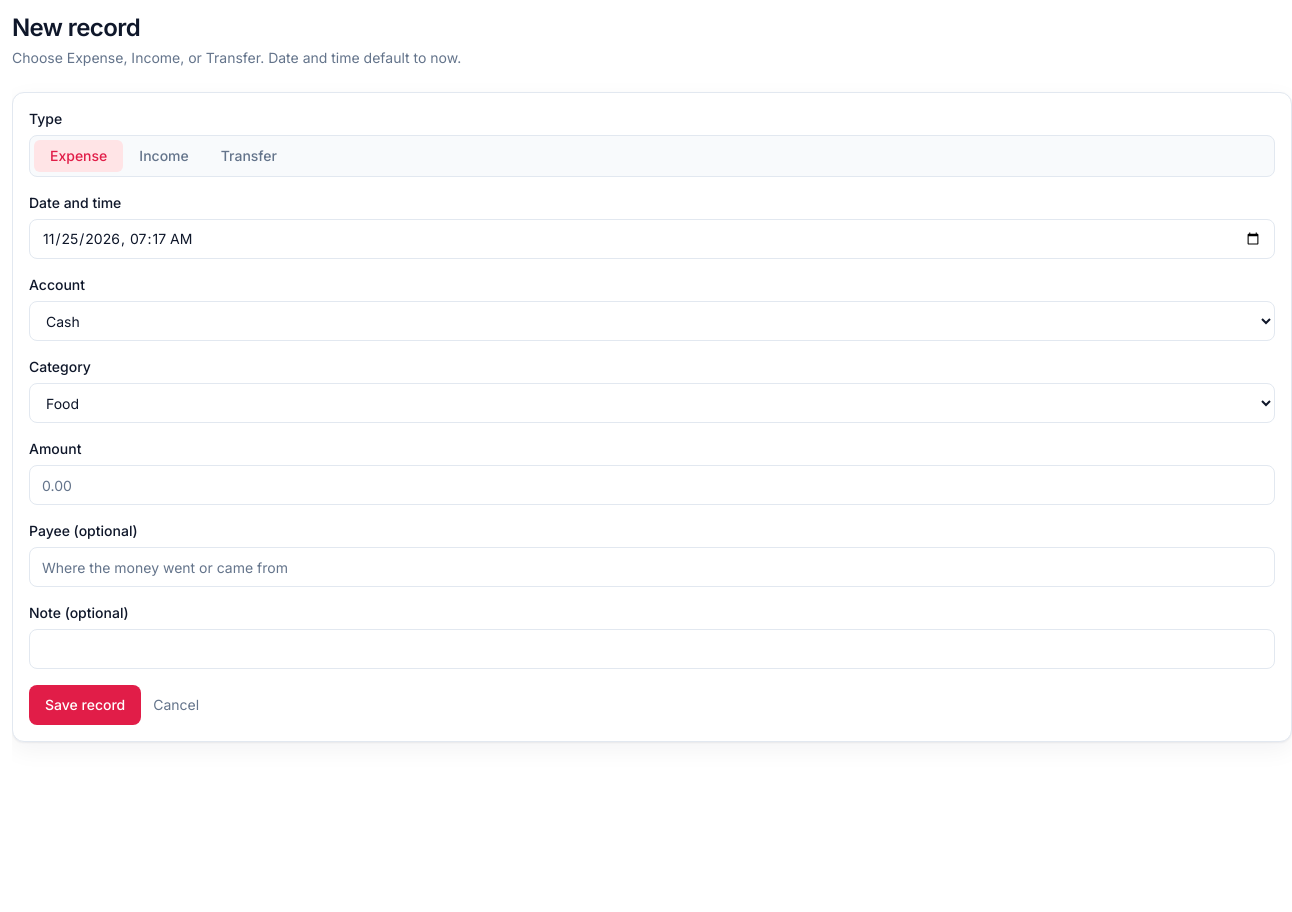
Test: TransactionFormPage with three types (D-019) › switches to transfer fields and defaults source/destination accounts
Click the button "Transfer": (249, 156) [205,140,293,172]
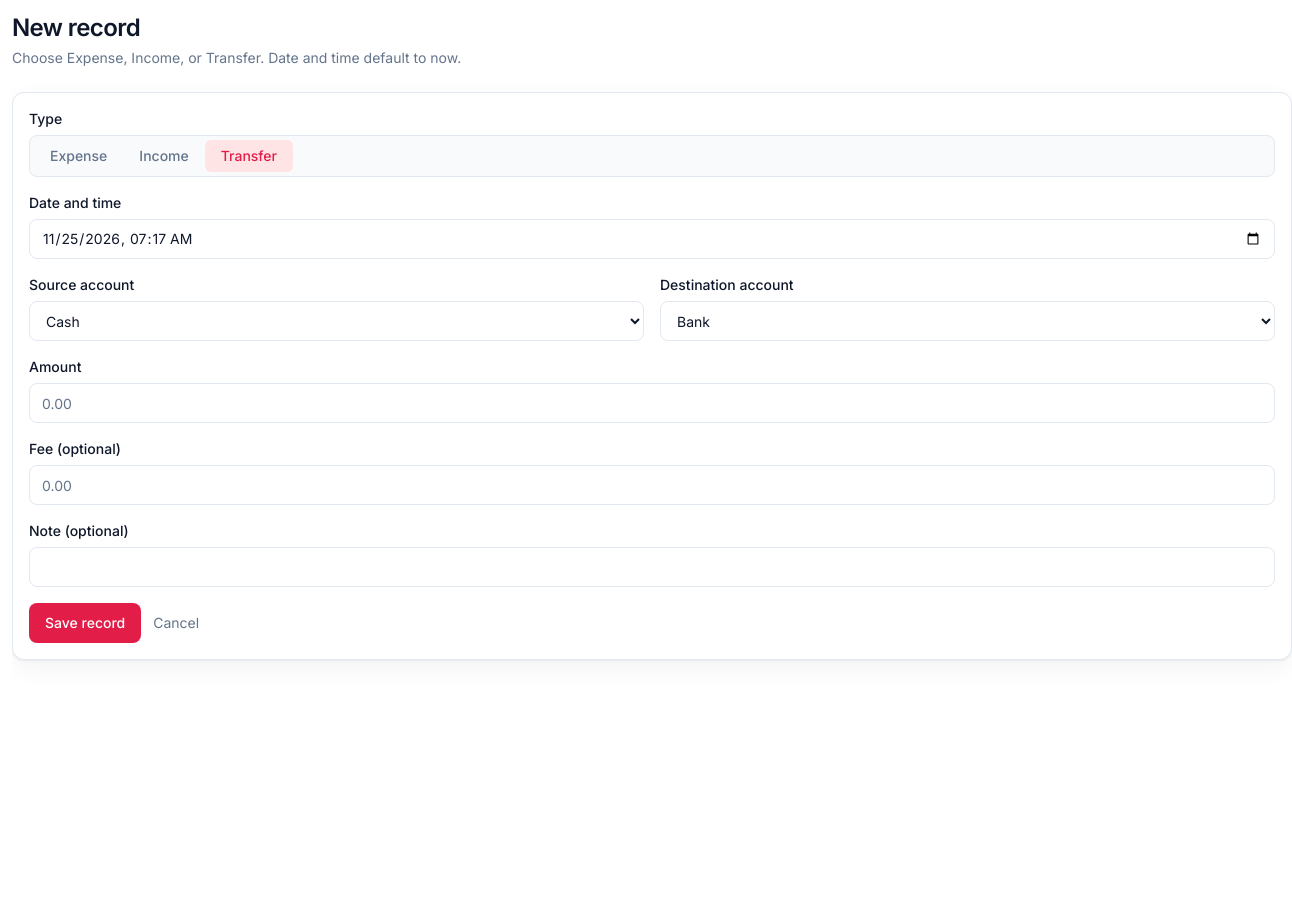
Check: the dropdown labelled "Source account" shows "Cash", box [29,301,644,341]
Check: the dropdown labelled "Destination account" shows "Bank", box [660,301,1275,341]
Check: the label labelled "Category" is gone
